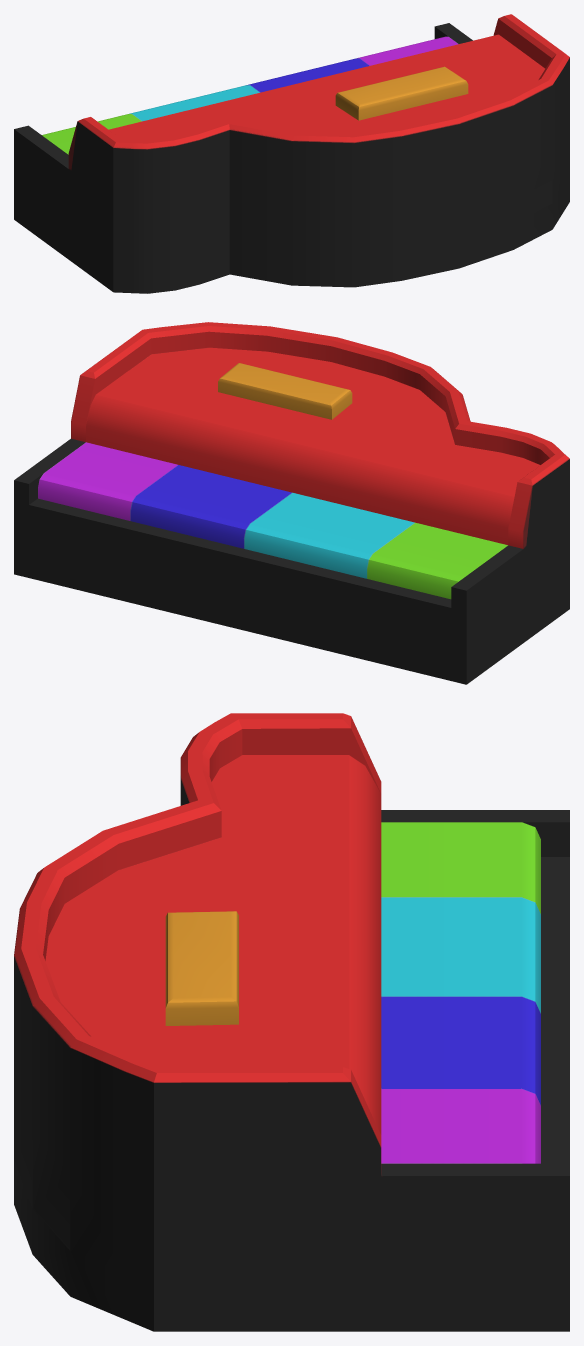
Rendered from Piano.fbx.
3 views of the same model, one above another, from view 1: azimuth 30°, elevation 25°; view 2: azimuth 150°, elevation 25°; view 3: azimuth 270°, elevation 25° (orthographic). The views are drawn at different scales.
Visible parts, largest first — view 1: polySurface242, polySurface243, polySurface105, polySurface103, polySurface101, polySurface104; view 2: polySurface242, polySurface105, polySurface103, polySurface101, polySurface104, polySurface243; view 3: polySurface242, polySurface105, polySurface103, polySurface104, polySurface101, polySurface243.
Boxes of the visible parts, x1,y1,x2,y2 form: polySurface242: (14,14,569,293); polySurface243: (335,66,468,120); polySurface105: (129,85,259,121); polySurface103: (246,58,369,92); polySurface101: (357,36,458,65); polySurface104: (42,114,141,154); polySurface242: (14,322,569,684); polySurface105: (244,492,414,578); polySurface103: (130,465,291,548); polySurface101: (38,442,177,520); polySurface104: (367,522,507,599); polySurface243: (218,363,352,419); polySurface242: (14,713,569,1331); polySurface105: (381,897,540,1013); polySurface103: (381,996,540,1105); polySurface104: (381,822,540,913); polySurface101: (381,1089,540,1163); polySurface243: (165,911,238,1025).
Size of the model in its own units: 1.81 by 0.5905 by 1.16.
Materials: 2 (2 with a texture image).
